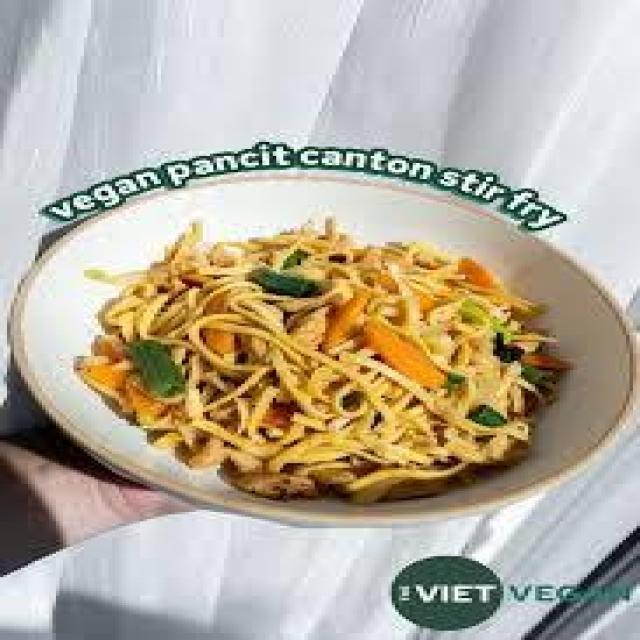pancit bihon: (99, 208, 585, 473)
